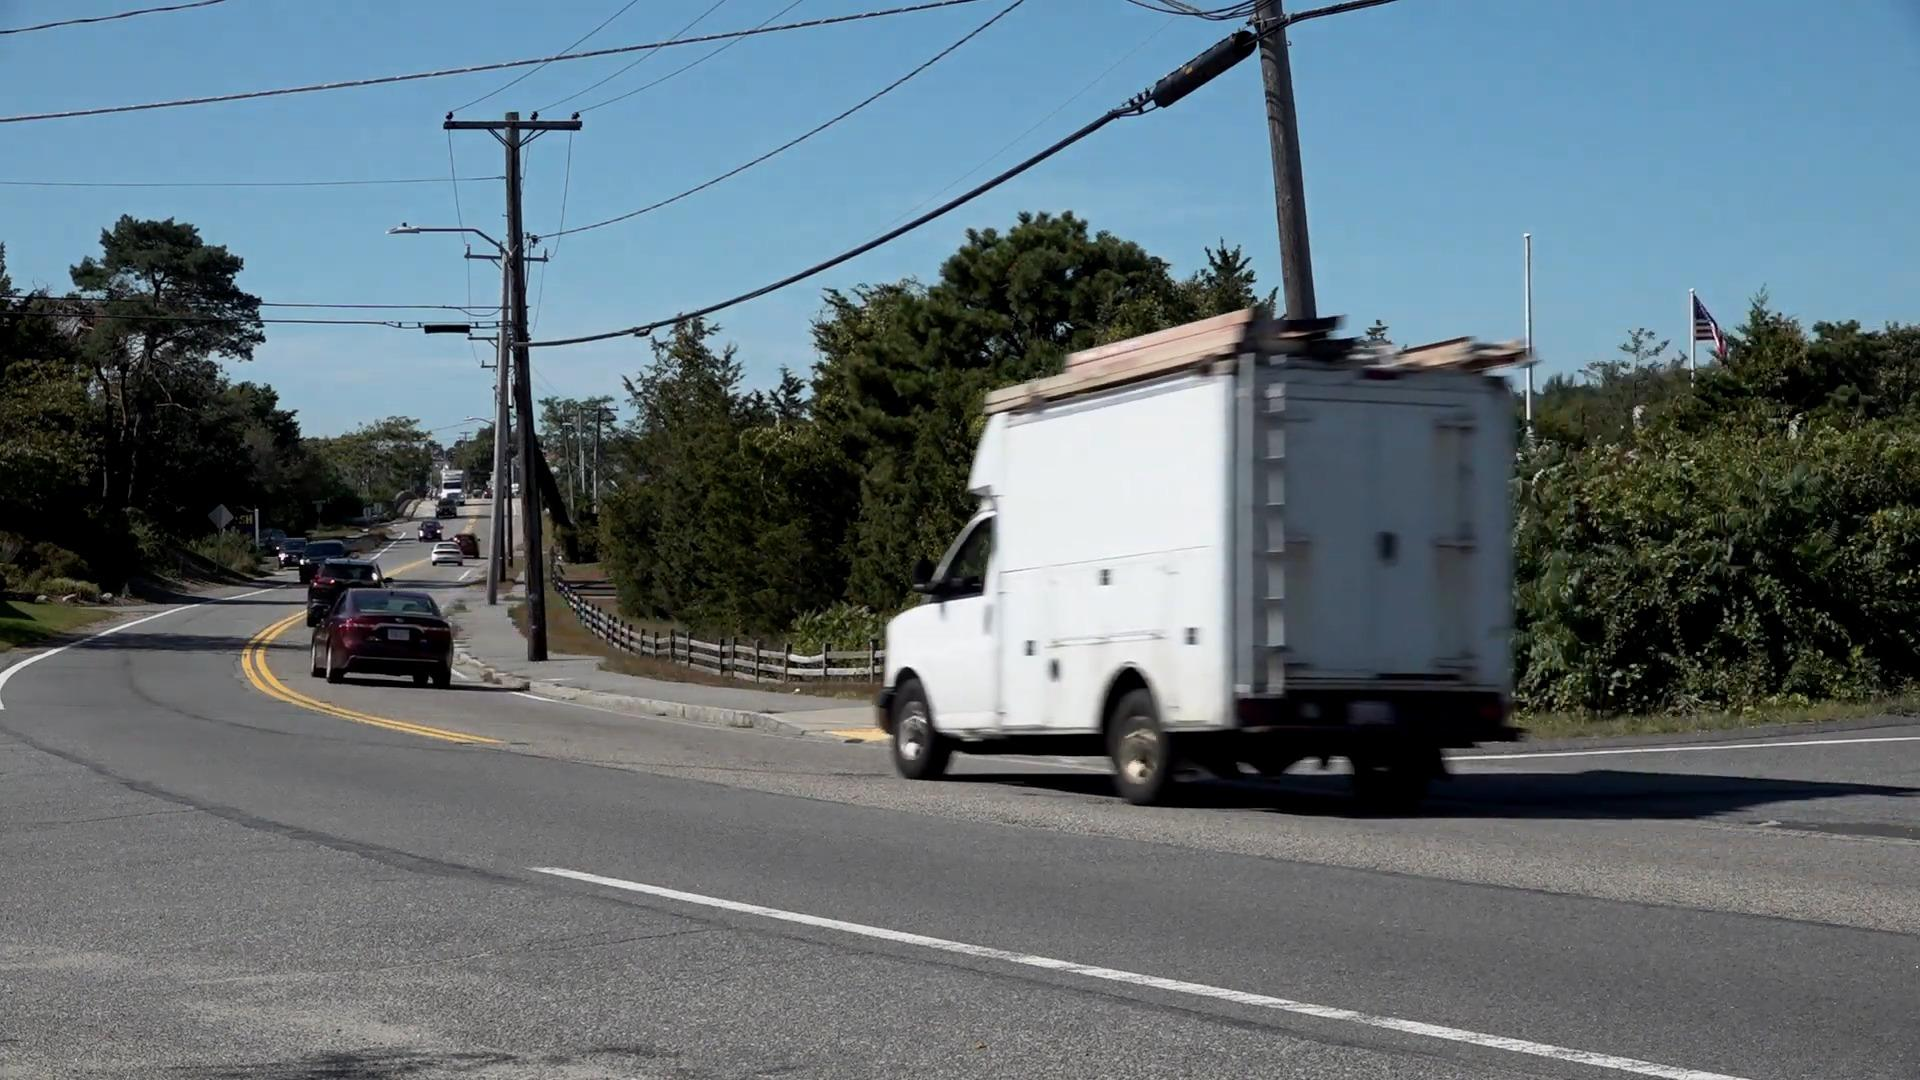truck: (880, 356, 1530, 814)
